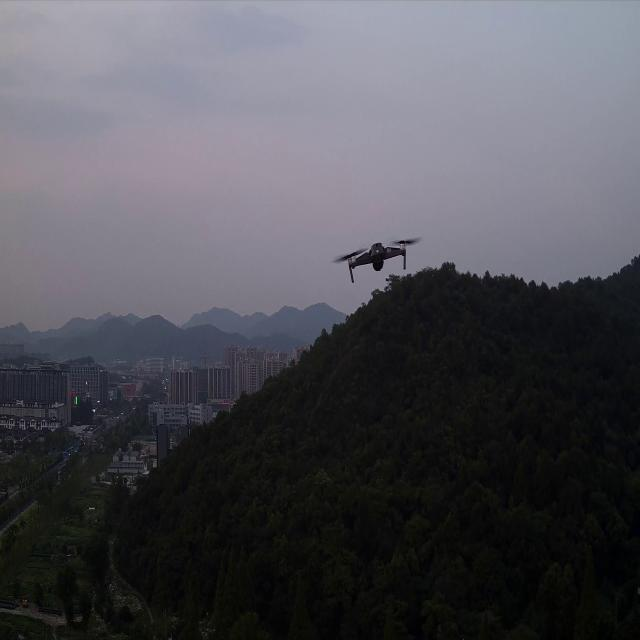UAV: (330, 235, 422, 286)
